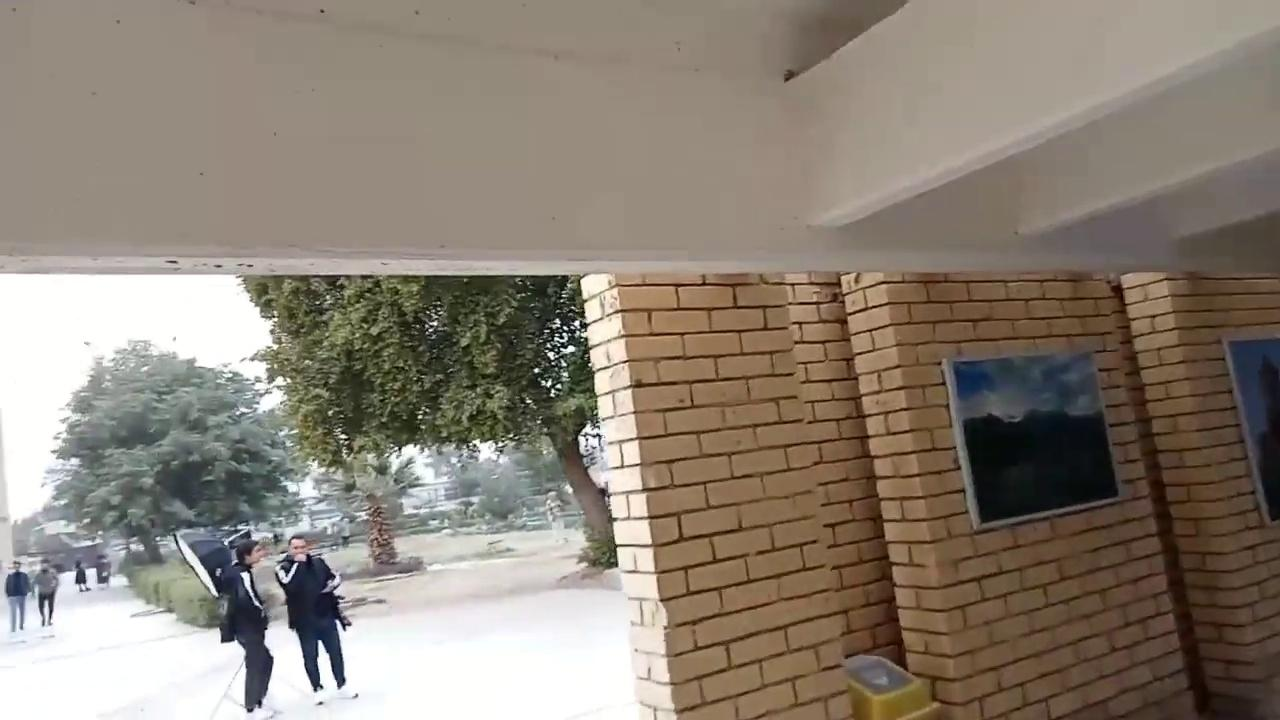person: (274, 534, 358, 702), (217, 539, 274, 713), (5, 560, 32, 631), (32, 558, 59, 626), (545, 489, 566, 544), (95, 553, 111, 589), (74, 559, 90, 592)
tree: (235, 271, 616, 570), (43, 336, 302, 564), (337, 452, 422, 566), (364, 499, 397, 564)
